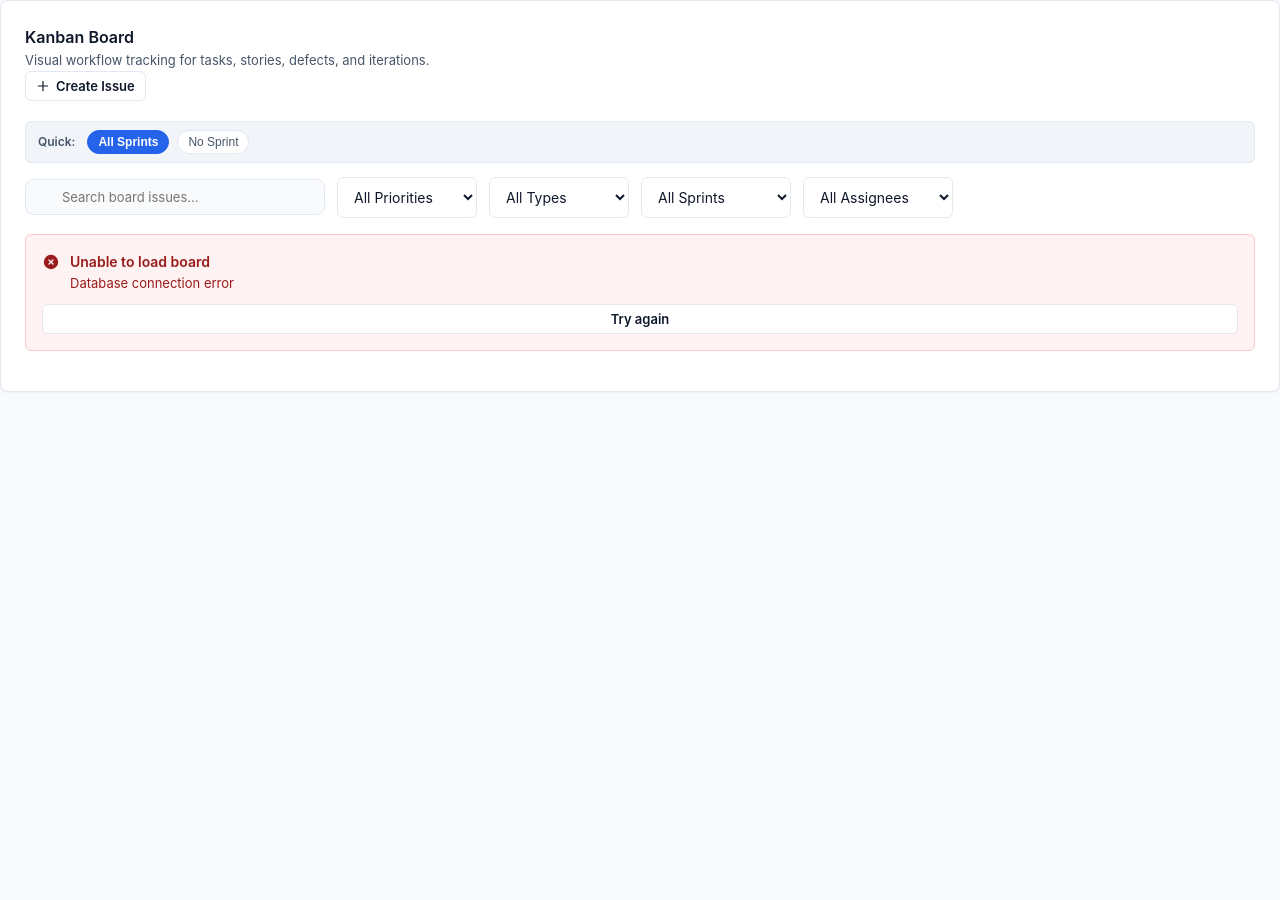
Test case: KanbanBoard Component › renders error state and retries fetch
Expected: the heading "Unable to load board" is shown, [70, 252, 210, 270]
Expected: the text "Database connection error" is shown, [70, 274, 234, 290]
Click the button "Try again".
click(640, 319)  # box [42, 304, 1238, 334]
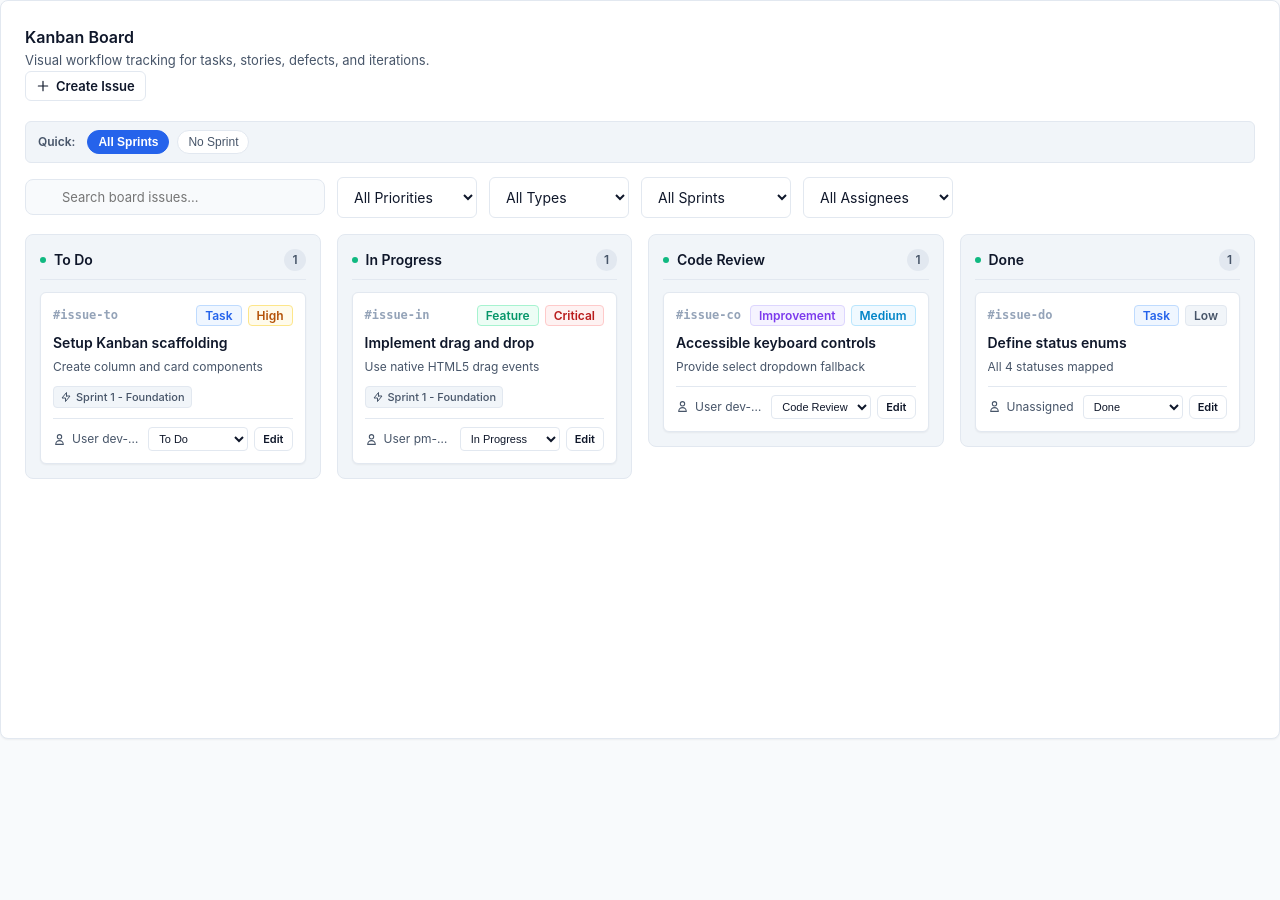
Expected: the link "Setup Kanban scaffolding" is shown, [53, 334, 228, 351]
